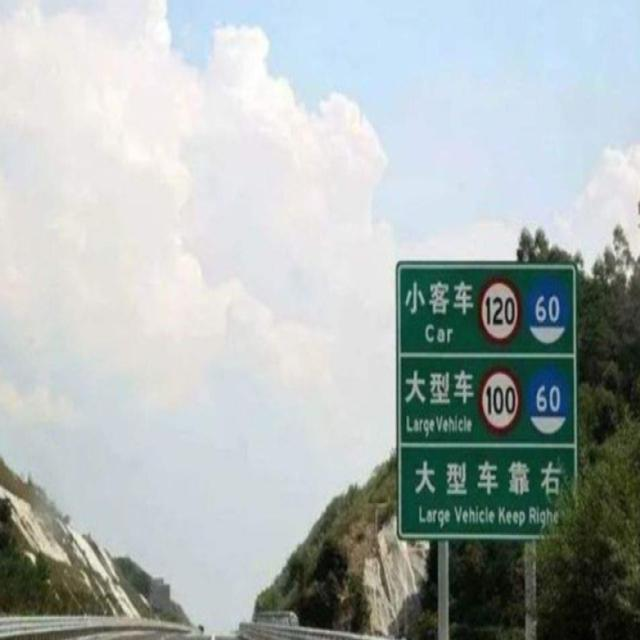speed limit 100: (478, 365, 523, 437)
speed limit 120: (476, 277, 522, 344)
speed limit 60: (525, 278, 570, 345), (528, 368, 570, 435)
